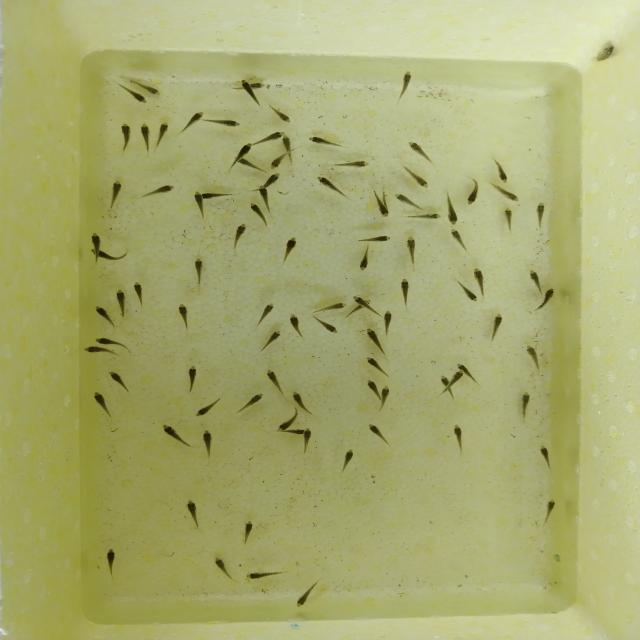fingerling: (294, 582, 322, 608), (364, 326, 390, 354), (161, 427, 194, 449), (312, 173, 344, 195), (289, 391, 314, 418), (195, 397, 224, 420), (235, 394, 265, 416), (94, 394, 115, 424), (450, 422, 468, 457), (364, 357, 391, 380), (396, 194, 428, 213), (407, 138, 432, 162), (209, 554, 231, 581), (111, 370, 133, 397), (184, 106, 208, 130), (366, 422, 391, 445), (522, 344, 545, 368), (261, 326, 285, 349), (230, 140, 255, 162), (153, 118, 170, 150), (313, 316, 341, 335), (254, 129, 292, 143), (105, 178, 123, 207), (399, 72, 414, 106), (200, 432, 217, 462), (258, 296, 280, 319), (405, 169, 429, 190), (330, 159, 372, 171), (378, 385, 394, 416), (358, 245, 377, 271), (189, 255, 208, 281), (444, 190, 458, 225), (538, 287, 558, 311), (111, 285, 127, 315), (278, 134, 297, 159), (230, 221, 249, 246), (339, 446, 357, 472), (466, 180, 484, 206), (450, 227, 470, 250), (524, 269, 544, 292), (287, 310, 304, 337), (270, 105, 294, 124), (299, 429, 314, 459), (488, 312, 505, 338), (185, 498, 202, 524), (139, 122, 153, 153), (245, 568, 276, 582), (518, 388, 532, 419), (492, 188, 520, 203), (265, 368, 285, 389), (142, 181, 180, 192), (282, 233, 298, 259), (119, 120, 132, 152), (472, 266, 488, 292), (123, 90, 152, 104), (90, 249, 130, 259), (365, 378, 383, 400), (404, 211, 440, 222), (273, 417, 296, 434), (494, 158, 510, 182), (93, 303, 113, 322), (303, 136, 341, 146), (178, 302, 192, 329), (406, 235, 418, 266), (399, 277, 412, 305), (208, 118, 244, 128), (78, 346, 117, 355), (241, 520, 256, 543), (193, 192, 204, 223), (250, 202, 264, 226), (188, 366, 199, 396), (317, 302, 349, 312), (538, 444, 554, 464), (536, 198, 547, 227), (144, 83, 165, 98), (544, 496, 557, 520), (452, 359, 472, 374), (240, 159, 263, 172), (347, 294, 371, 306), (438, 376, 456, 392), (257, 172, 283, 183), (105, 547, 118, 569), (242, 79, 253, 104), (92, 338, 122, 347), (132, 280, 144, 302), (506, 206, 514, 238), (358, 236, 394, 243), (382, 308, 393, 330), (202, 192, 232, 200), (257, 185, 271, 202), (464, 289, 479, 304), (89, 232, 104, 247), (268, 154, 282, 170), (374, 204, 391, 217), (452, 369, 465, 382)
